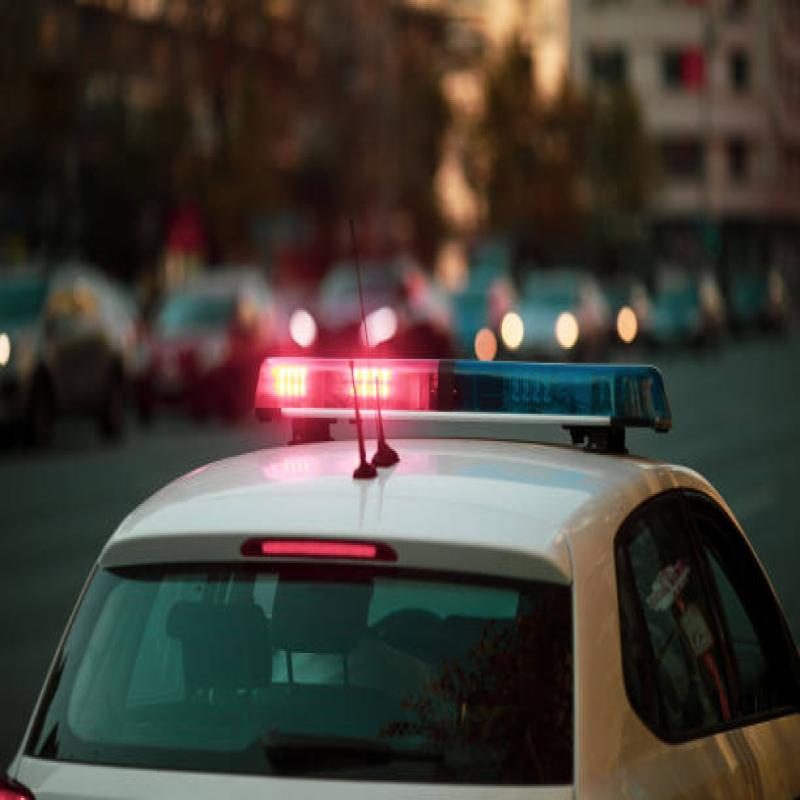AmbulanceSiren: (241, 298, 674, 470)
